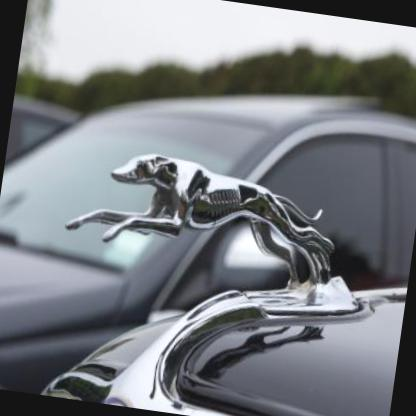car: (0, 59, 415, 415), (25, 138, 415, 415), (0, 93, 74, 213)
